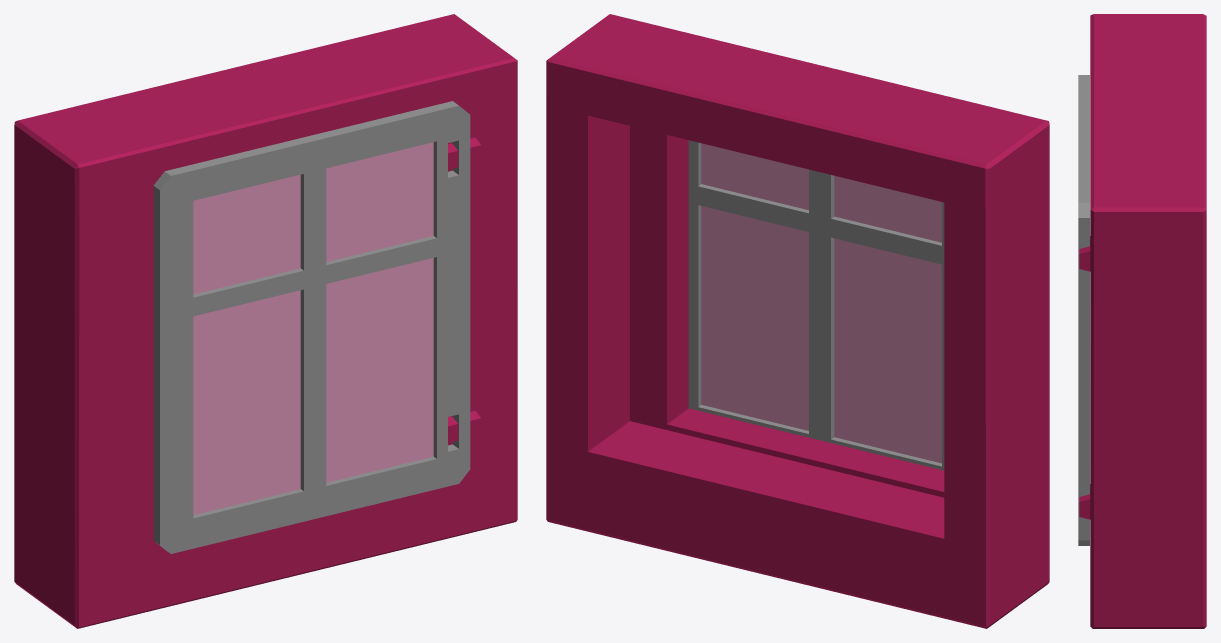
The model's file is Part_House_Window_1X4_simple.FBX.
The picture shows the model from 3 angles, left to right: view 1: azimuth 30°, elevation 25°; view 2: azimuth 150°, elevation 25°; view 3: azimuth 270°, elevation 25°; orthographic projection. The views are drawn at different scales.
Visible parts, largest first — view 1: Part_House_Window_1X4_simple, Part_House_Window_glass, Part_House_Window; view 2: Part_House_Window_1X4_simple, Part_House_Window_glass, Part_House_Window; view 3: Part_House_Window_1X4_simple, Part_House_Window.
Boxes of the visible parts, x1,y1,x2,y2 form: Part_House_Window_1X4_simple: [14, 14, 517, 628]; Part_House_Window_glass: [193, 142, 433, 515]; Part_House_Window: [153, 101, 470, 553]; Part_House_Window_1X4_simple: [546, 14, 1049, 628]; Part_House_Window_glass: [701, 143, 941, 463]; Part_House_Window: [688, 140, 944, 470]; Part_House_Window_1X4_simple: [1079, 14, 1206, 628]; Part_House_Window: [1078, 75, 1089, 545].
Bounding box in the file's own units: 400 × 400 × 110.
